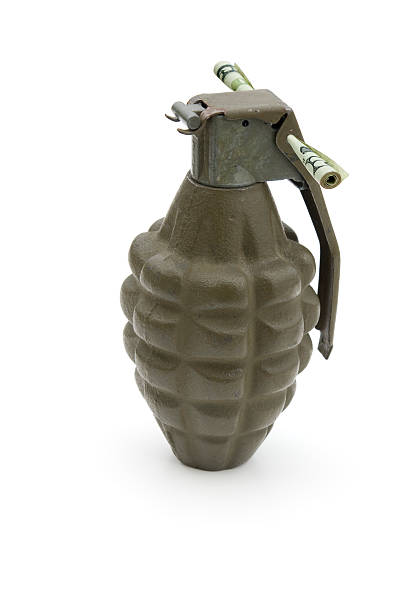e1: (112, 76, 350, 475)
